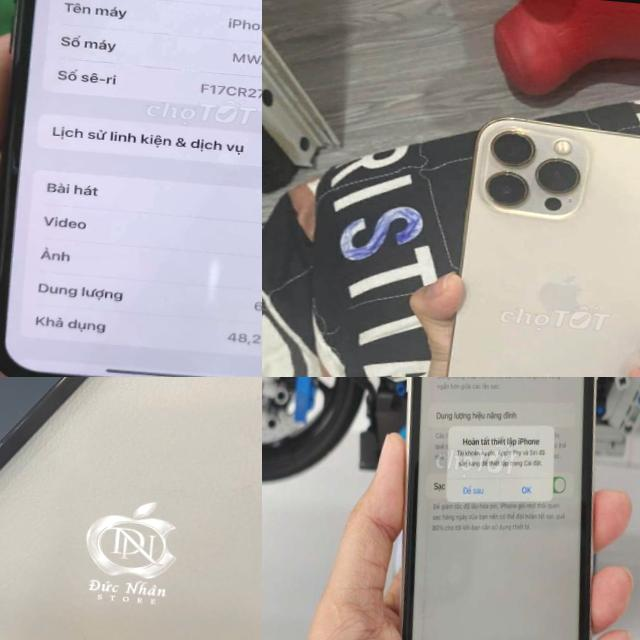gen_11: (0, 0, 262, 377), (402, 377, 596, 640)
gen_12_13: (430, 106, 640, 377)
gen_14: (0, 377, 245, 570)
